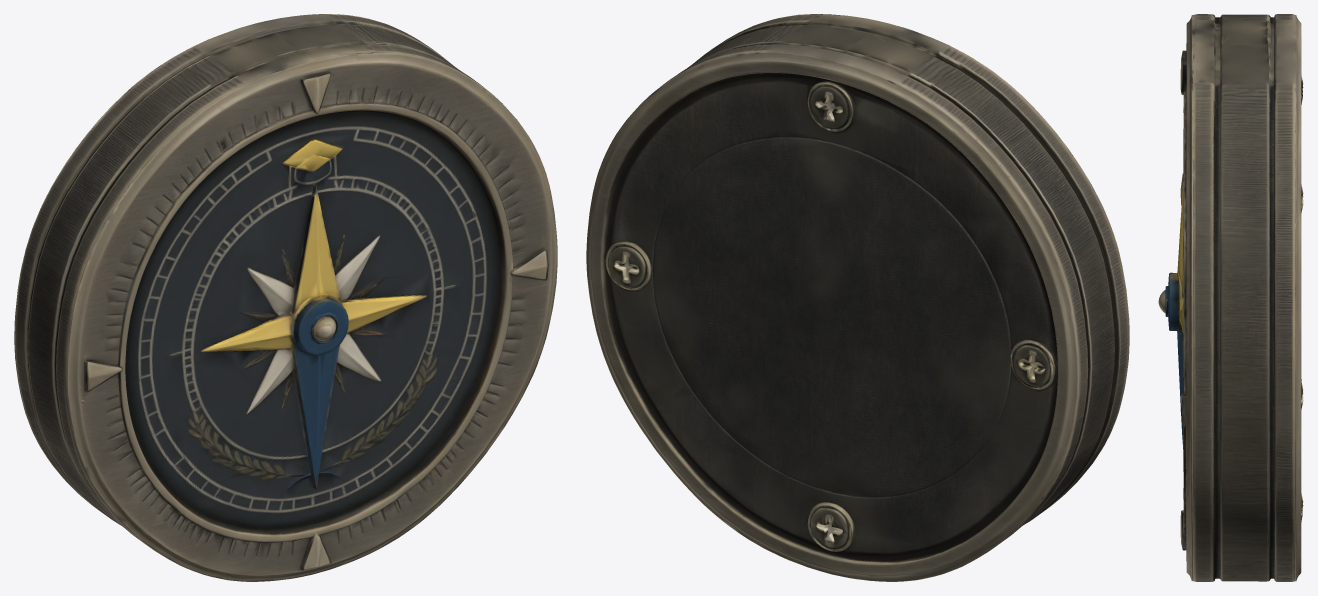
The model's file is courseai.glb.
The picture shows the model from 3 angles, left to right: view 1: azimuth 30°, elevation 25°; view 2: azimuth 150°, elevation 25°; view 3: azimuth 270°, elevation 25°; orthographic projection.
Visible parts, largest first — view 1: node_0; view 2: node_0; view 3: node_0.
Part boxes in pixels (left/top/right/bottom): node_0: left=14, top=14, right=557, bottom=581; node_0: left=586, top=14, right=1129, bottom=581; node_0: left=1158, top=14, right=1303, bottom=581.
Size of the model in its own units: 1.15 by 1.15 by 0.2966.
Materials: 1 (1 with a texture image).
